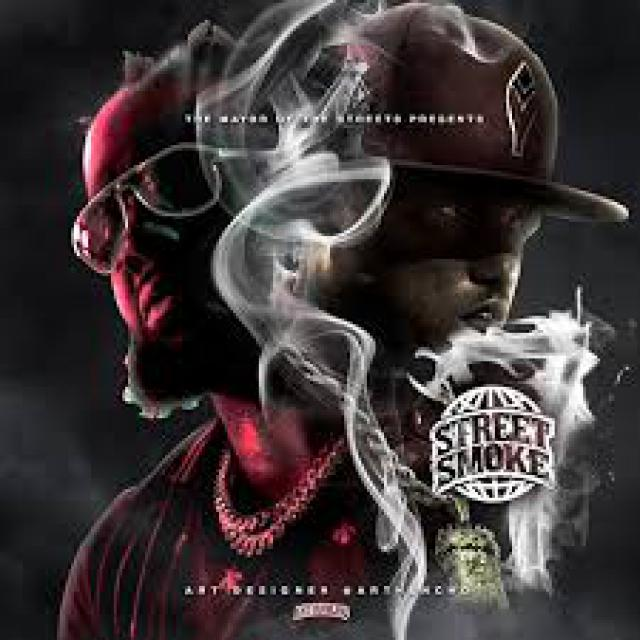smoke: (194, 42, 376, 412), (432, 307, 638, 532)
